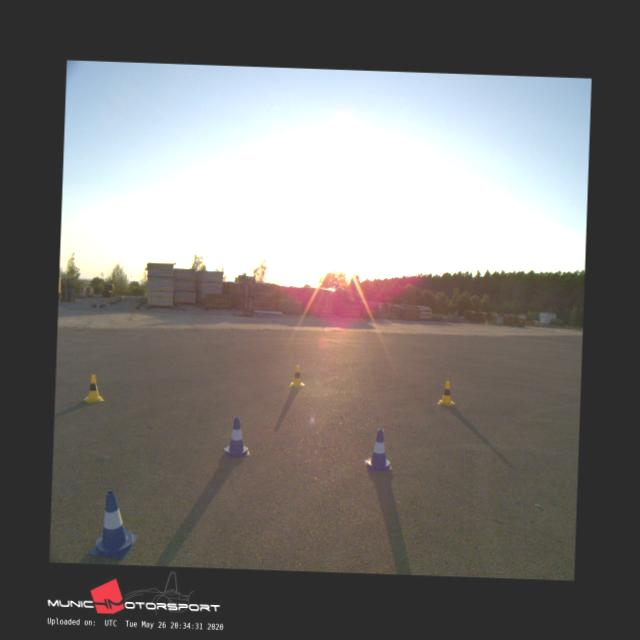blue_cone: (90, 489, 138, 558), (363, 428, 392, 470), (222, 416, 250, 457)
yellow_cone: (84, 374, 104, 402), (437, 380, 455, 405), (288, 364, 304, 386)
